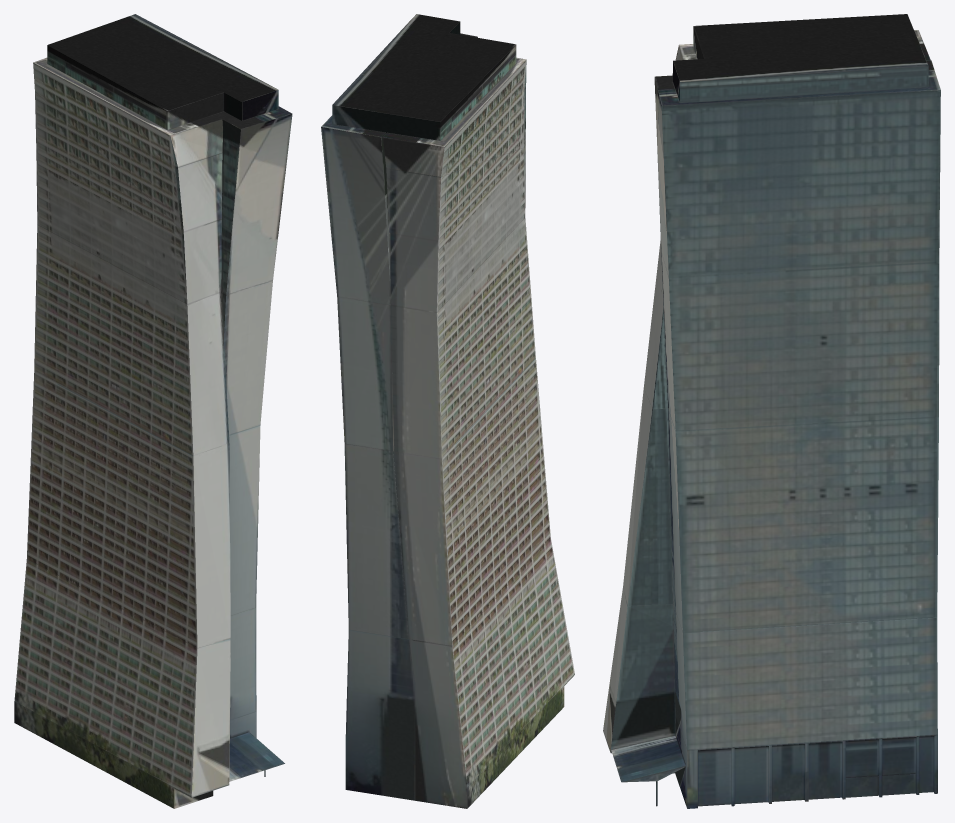
3 views of the same model, side by side, from view 1: azimuth 30°, elevation 25°; view 2: azimuth 150°, elevation 25°; view 3: azimuth 270°, elevation 25° (orthographic). The views are drawn at different scales.
Visible parts, largest first — view 1: 5_0.glb; view 2: 5_0.glb; view 3: 5_0.glb.
Boxes of the visible parts, left/top/right/bottom form: 5_0.glb: left=14, top=14, right=292, bottom=808; 5_0.glb: left=321, top=14, right=574, bottom=808; 5_0.glb: left=603, top=14, right=940, bottom=808.
Bounding box in the file's own units: 46.41 × 183 × 76.19.
1 material, 1 textured.
